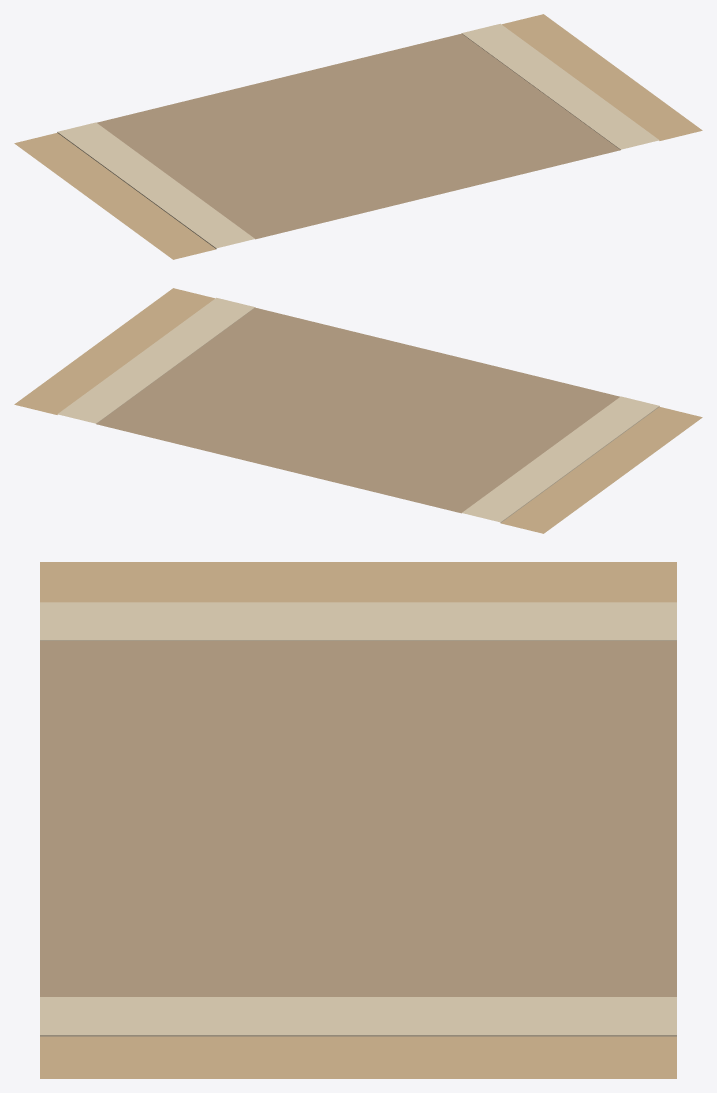
Rendered from road_dirt.glb.
3 renders of one model, top to bottom at view 1: azimuth 30°, elevation 25°; view 2: azimuth 150°, elevation 25°; view 3: azimuth 270°, elevation 25°, orthographic. The views are drawn at different scales.
Parts seen in each view (by area): view 1: roadStraight(Clone); view 2: roadStraight(Clone); view 3: roadStraight(Clone).
Part boxes in pixels (box(x1,y1,x2,y2)): roadStraight(Clone): box(14, 14, 702, 259); roadStraight(Clone): box(14, 288, 702, 533); roadStraight(Clone): box(40, 562, 676, 1078).
Bounding box in the file's own units: 12 × 0.02 × 6.25.
